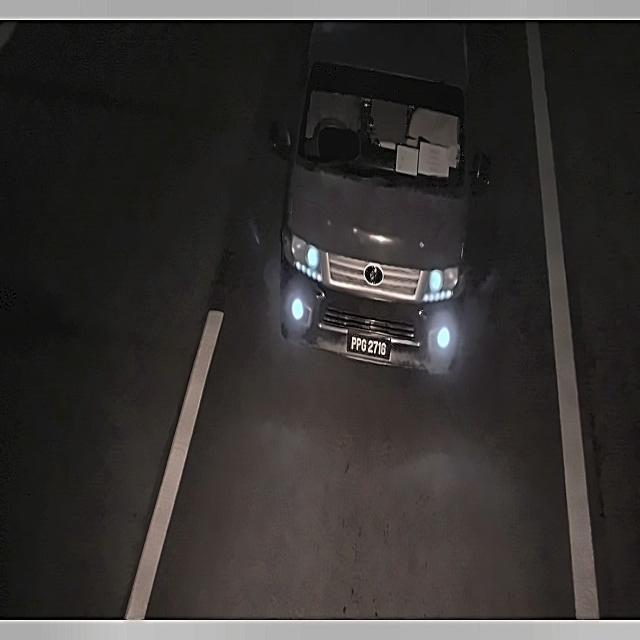car: (343, 325, 398, 367)
